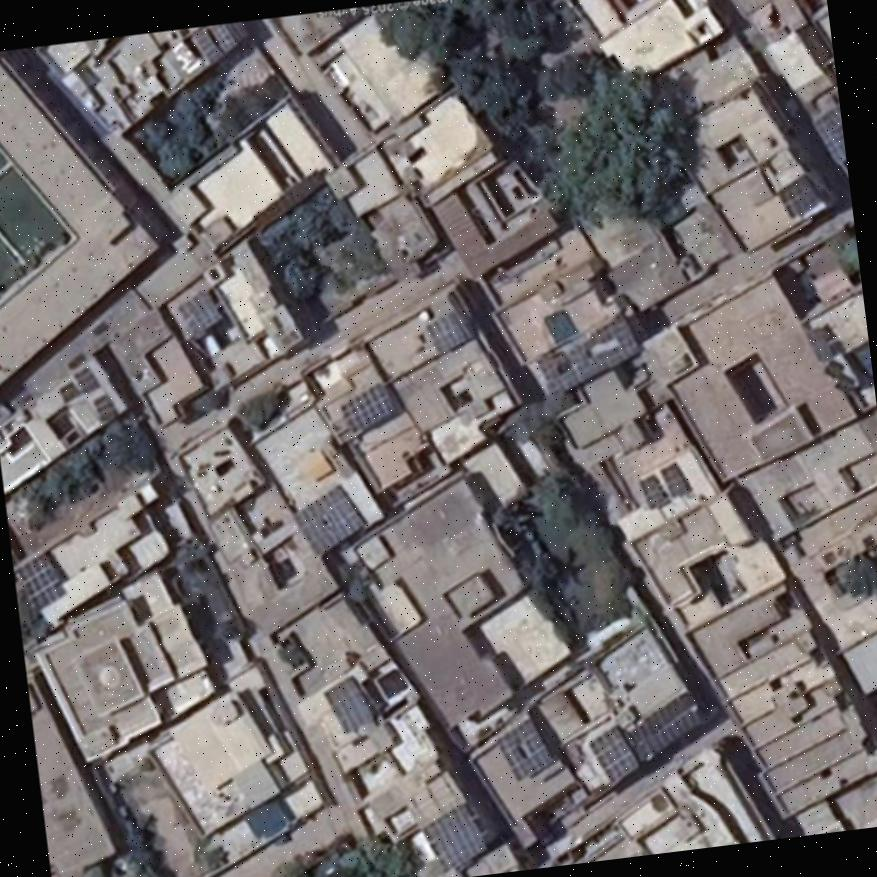Solarpanel: (290, 483, 362, 556), (638, 688, 708, 753), (423, 804, 484, 874), (498, 721, 551, 779), (16, 554, 66, 611), (338, 383, 395, 432), (591, 725, 636, 783), (426, 311, 474, 354), (814, 105, 846, 165), (191, 25, 238, 60), (662, 463, 691, 495), (640, 476, 668, 508)
